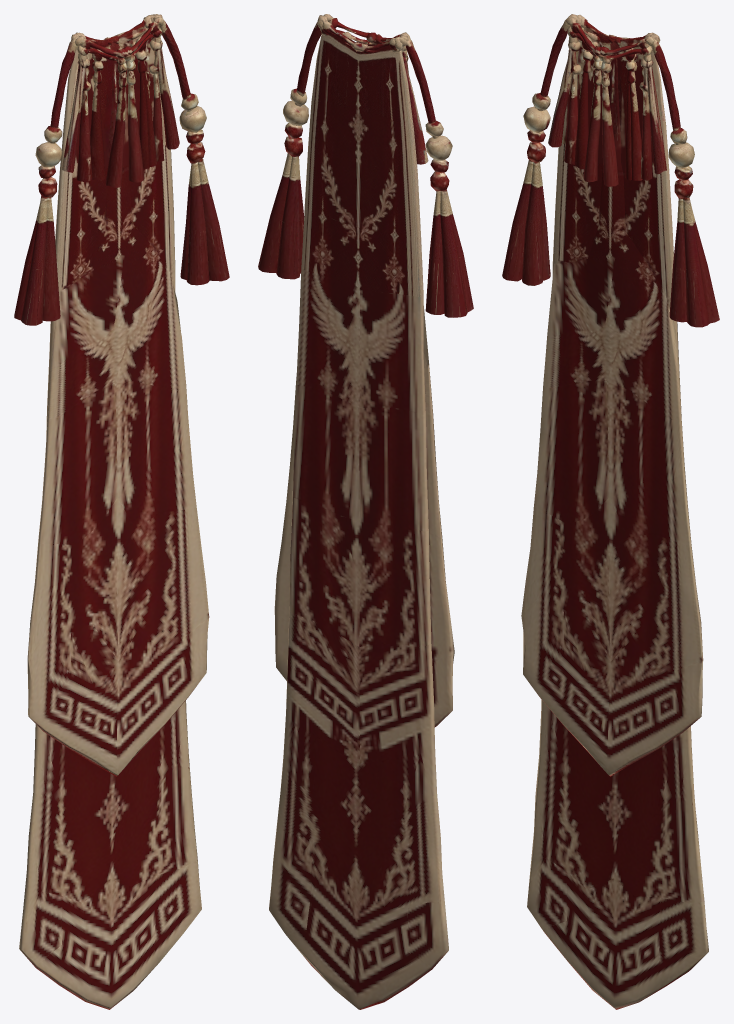
Rendered from mi_nuong_drape_mesh.fbx.
3 views of the same model, side by side, from view 1: azimuth 30°, elevation 25°; view 2: azimuth 150°, elevation 25°; view 3: azimuth 330°, elevation 25° (orthographic).
Parts seen in each view (by area): view 1: Mesh_0; view 2: Mesh_0; view 3: Mesh_0.
Part boxes in pixels (<box>): Mesh_0: <box>14,14,229,1009</box>; Mesh_0: <box>258,14,473,1009</box>; Mesh_0: <box>502,14,719,1009</box>.
Size of the model in its own units: 21.96 by 99.04 by 4.25.
1 material, 1 textured.
